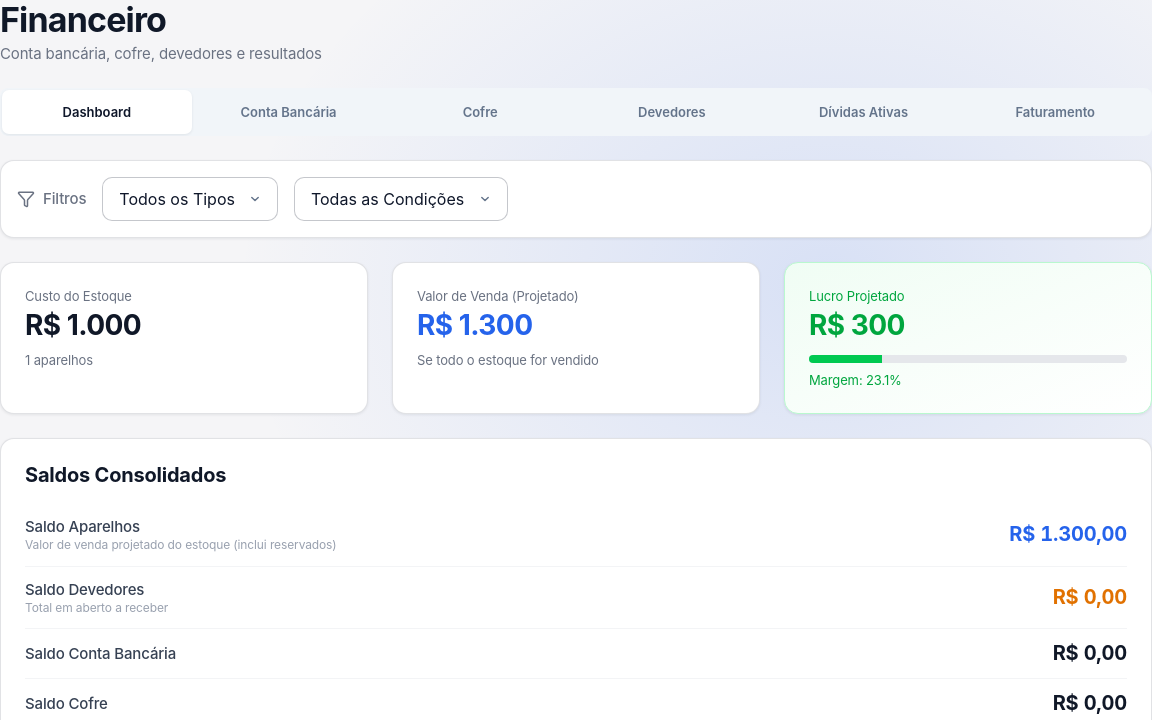
Test: Finance page resilience › exposes payable debt search with an accessible name
Click the button with test id "finance-tab-payable_debts" at (864, 112), box left=769, top=90, right=958, bottom=134
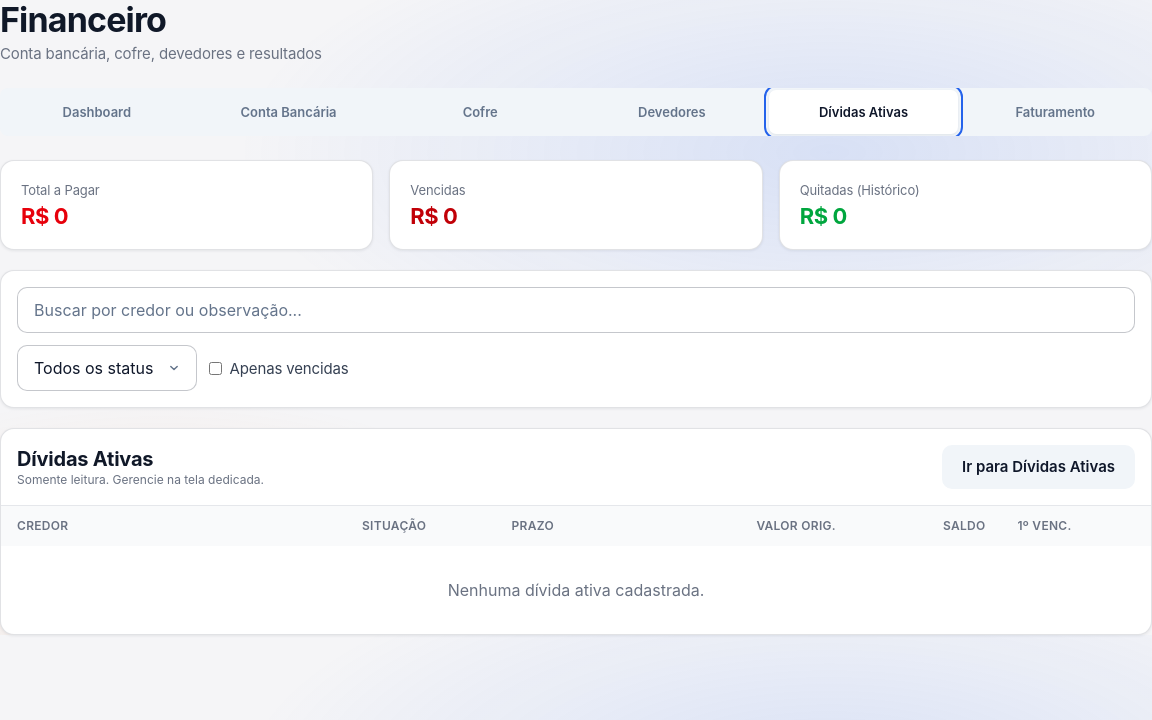
Now the search field named "buscar dívidas ativas" is shown, box left=17, top=287, right=1135, bottom=333
